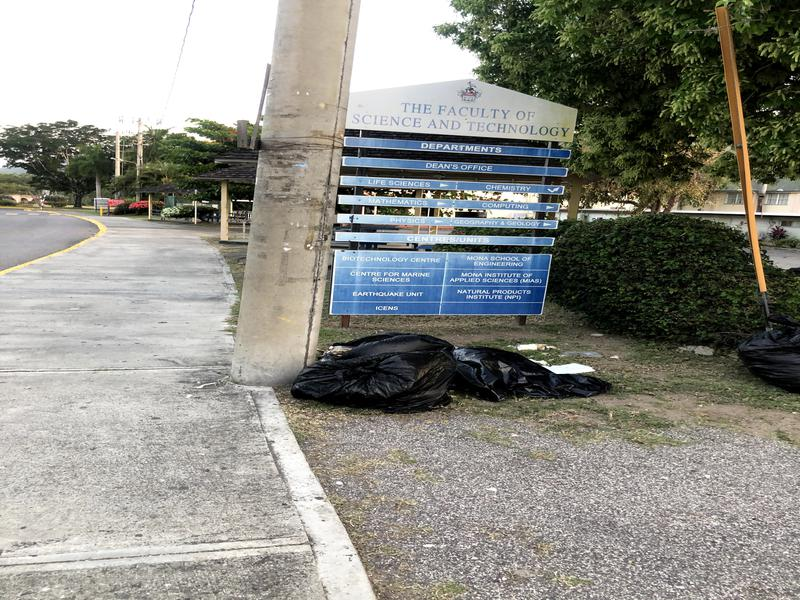18.0055634_-76.7484079_scitechsign: (328, 68, 586, 347)
